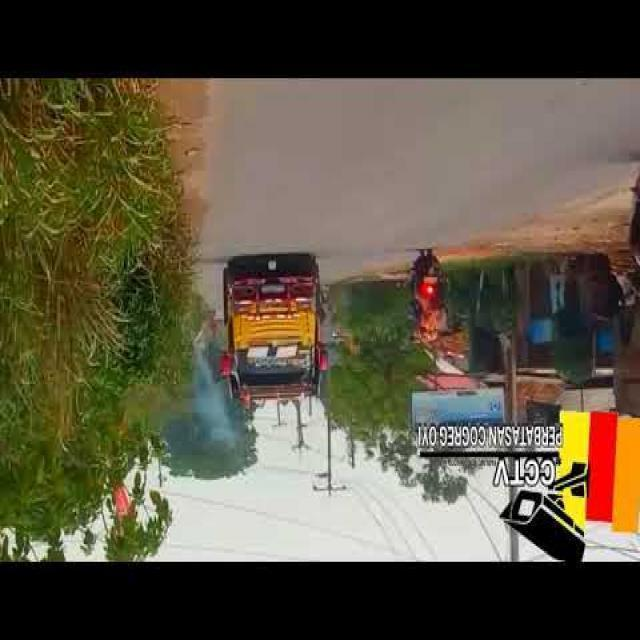truck: (221, 254, 331, 416)
